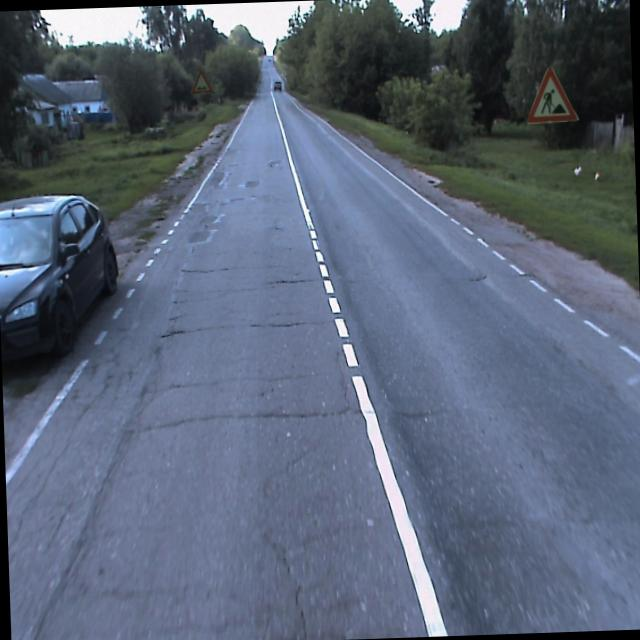road: (5, 56, 640, 640)
